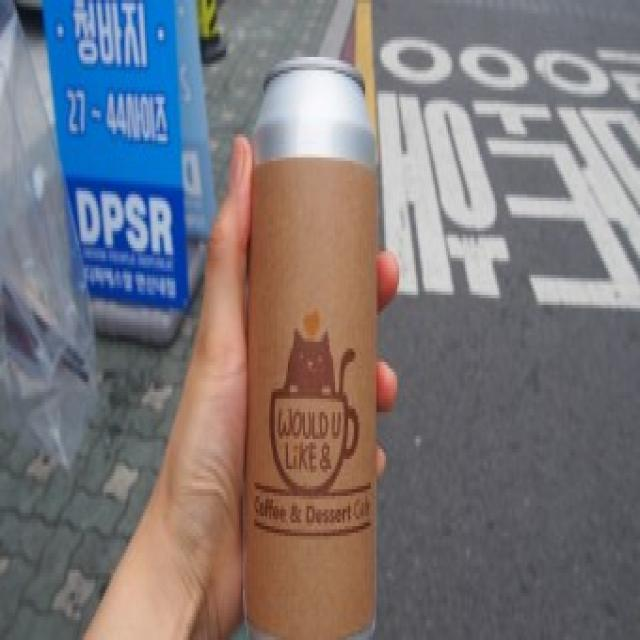can: (242, 49, 378, 640)
